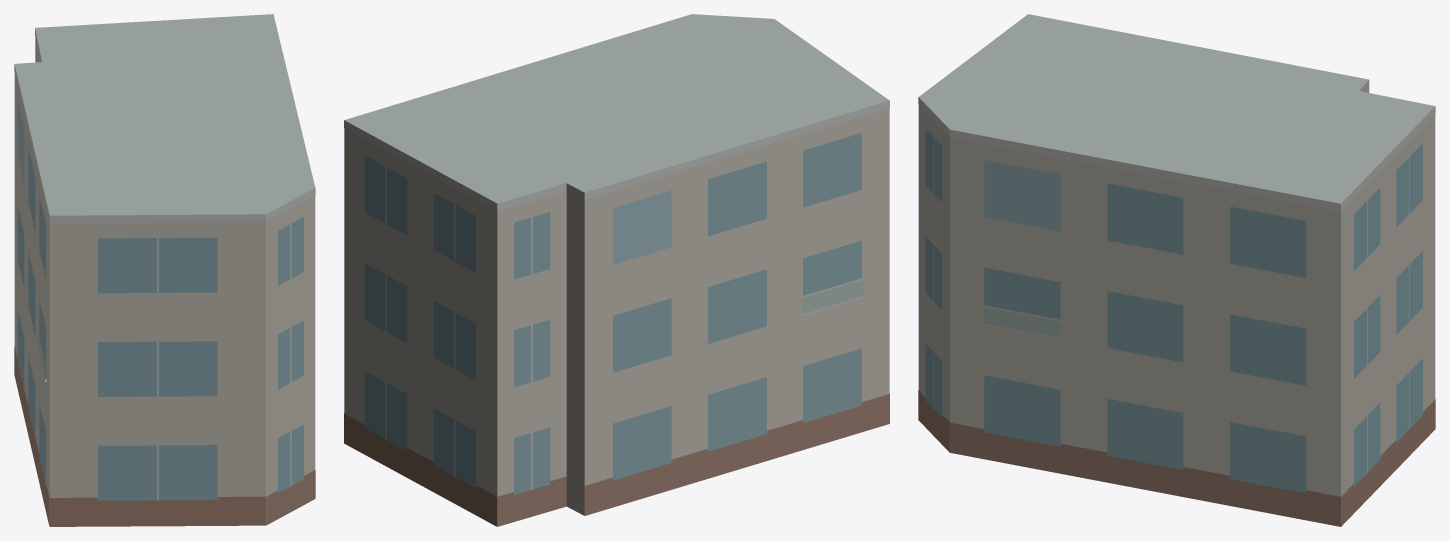
File: survey-upis-32997452.glb
3 renders of one model, left to right at view 1: azimuth 30°, elevation 25°; view 2: azimuth 150°, elevation 25°; view 3: azimuth 270°, elevation 25°, orthographic. The views are drawn at different scales.
Visible parts, largest first — view 1: survey-upis-32997452.tmp; view 2: survey-upis-32997452.tmp; view 3: survey-upis-32997452.tmp.
Part boxes in pixels (<box>): survey-upis-32997452.tmp: <box>14,14,315,526</box>; survey-upis-32997452.tmp: <box>344,14,889,526</box>; survey-upis-32997452.tmp: <box>918,14,1435,526</box>.
Bounding box in the file's own units: 12.86 × 10.2 × 14.8.
